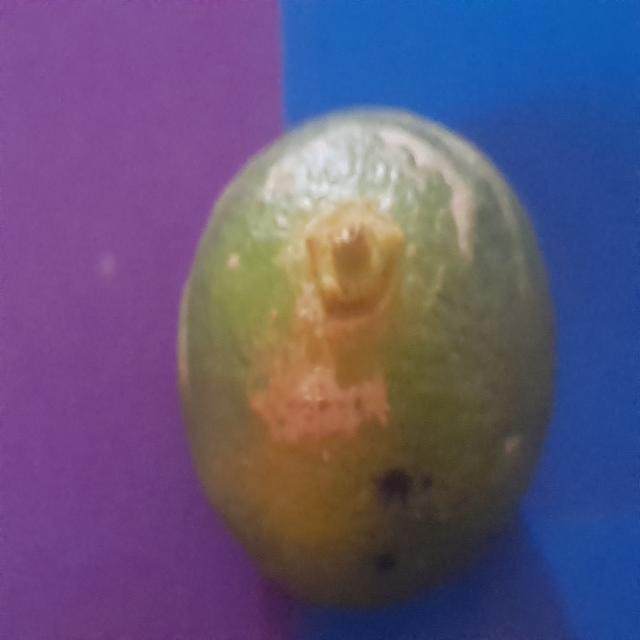thrips: (146, 100, 564, 612)
